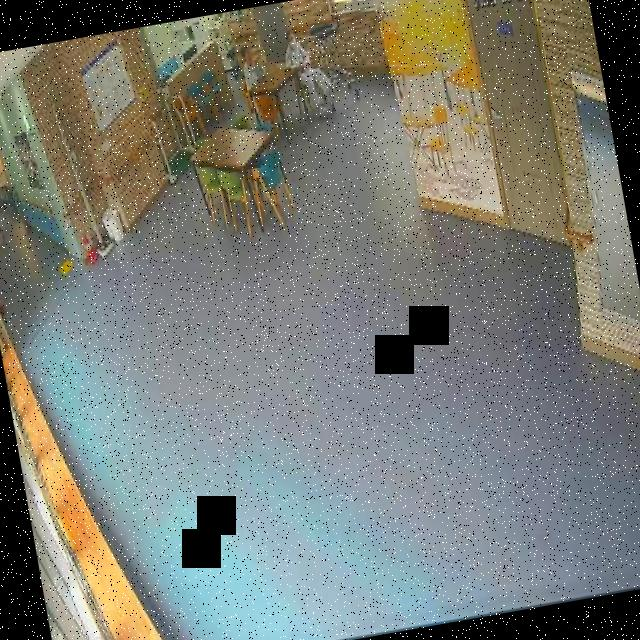patient: (278, 25, 342, 124), (230, 35, 269, 93)
sit: (278, 26, 340, 123)
walker: (302, 15, 363, 113)
